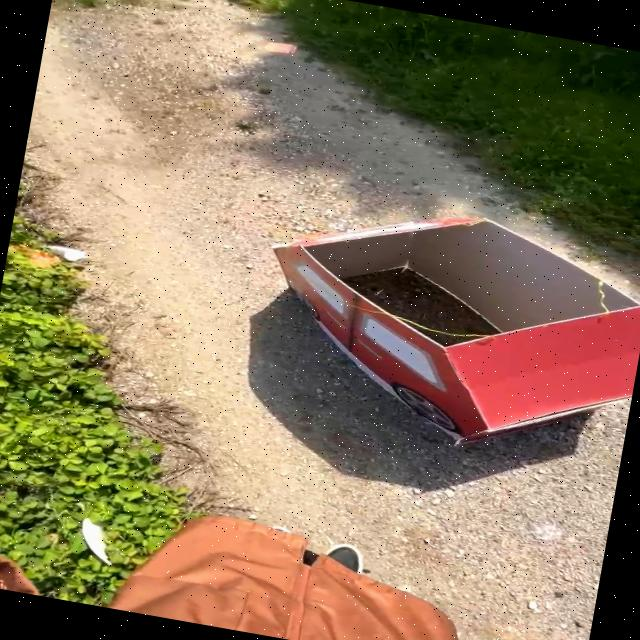red_car: (218, 174, 640, 485)
